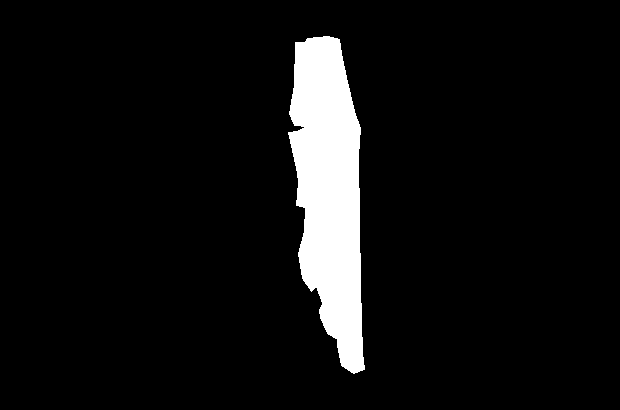type2: (284, 34, 368, 380)
